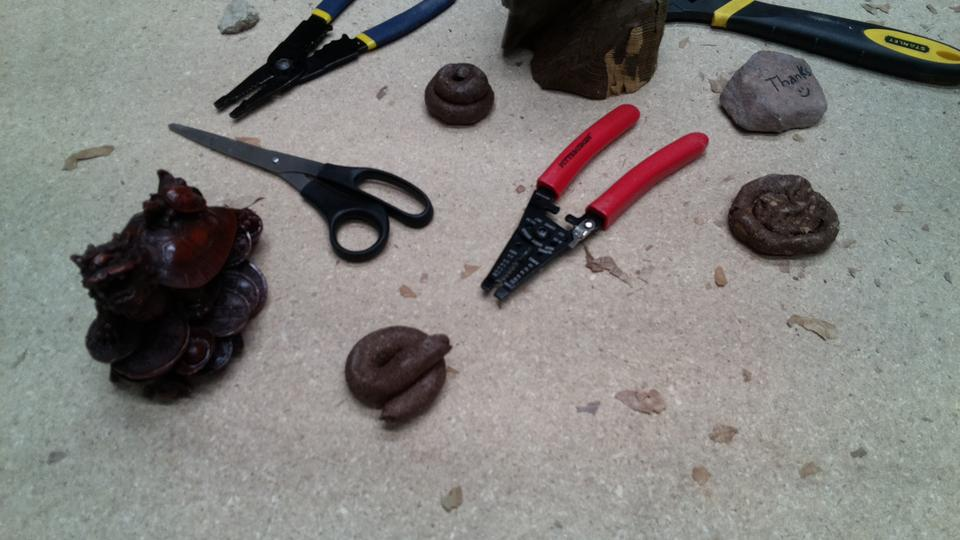poop: (343, 325, 453, 429), (724, 170, 843, 262), (422, 59, 498, 128)
